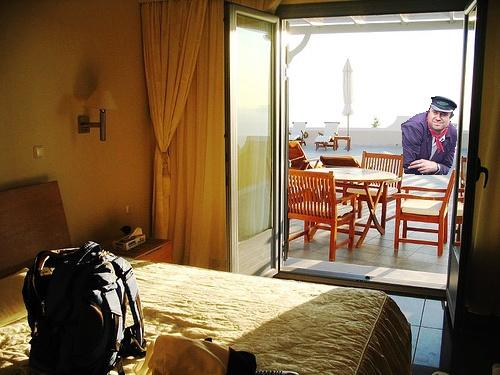tampered: (402, 96, 457, 175)
